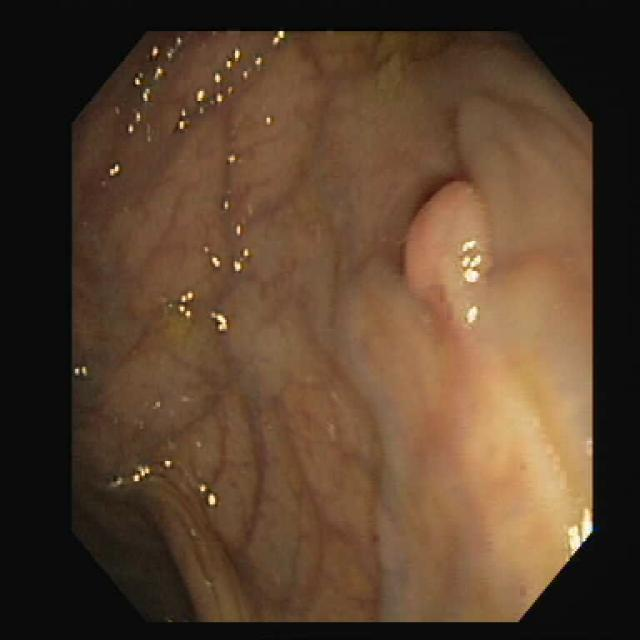tumor: (403, 180, 490, 324)
